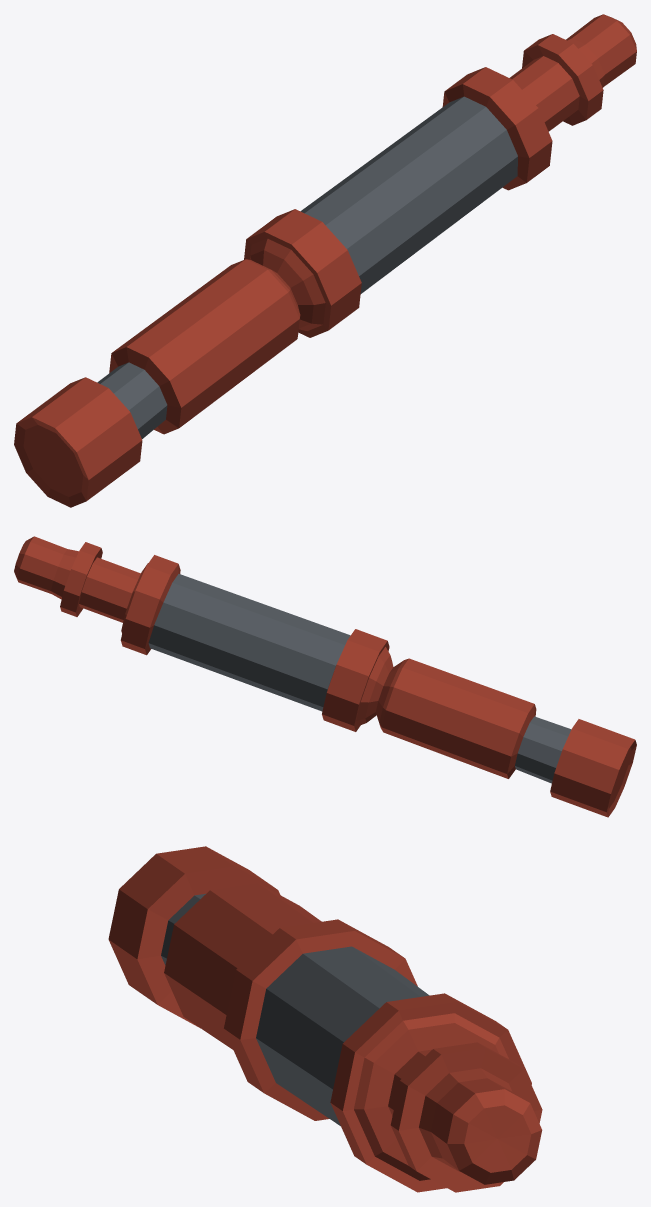
Rendered from Fighter_03_Pipes_01_Red.fbx.
3 renders of one model, top to bottom at view 1: azimuth 30°, elevation 25°; view 2: azimuth 150°, elevation 25°; view 3: azimuth 270°, elevation 25°, orthographic. The views are drawn at different scales.
Parts seen in each view (by area): view 1: Fighter_03_Pipes_01_Red; view 2: Fighter_03_Pipes_01_Red; view 3: Fighter_03_Pipes_01_Red.
Boxes of the visible parts, left/top/right/bottom form: Fighter_03_Pipes_01_Red: left=14, top=14, right=636, bottom=507; Fighter_03_Pipes_01_Red: left=14, top=536, right=636, bottom=817; Fighter_03_Pipes_01_Red: left=108, top=846, right=542, bottom=1192.
Bounding box in the file's own units: 244 × 88.09 × 84.72.
1 material, 1 textured.
